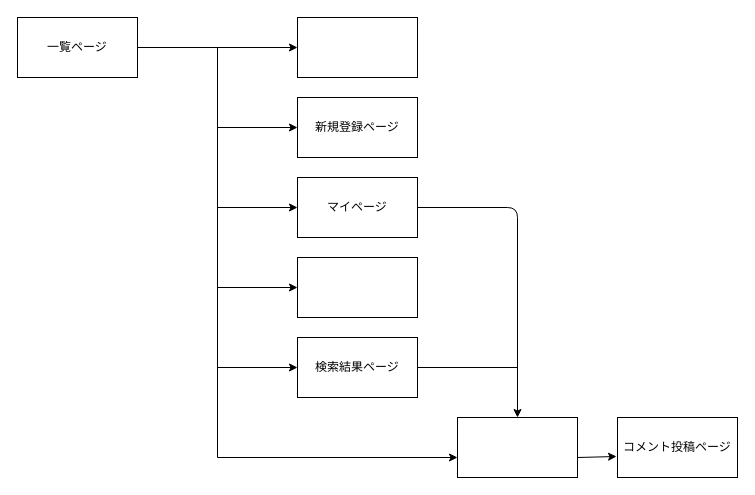
This 755x495 diagram has some shape labels left out. Each missing label, with the centre of its shape:
ログインページ: point (357, 47)
新規投稿ページ: point (357, 287)
詳細ページ: point (517, 447)
